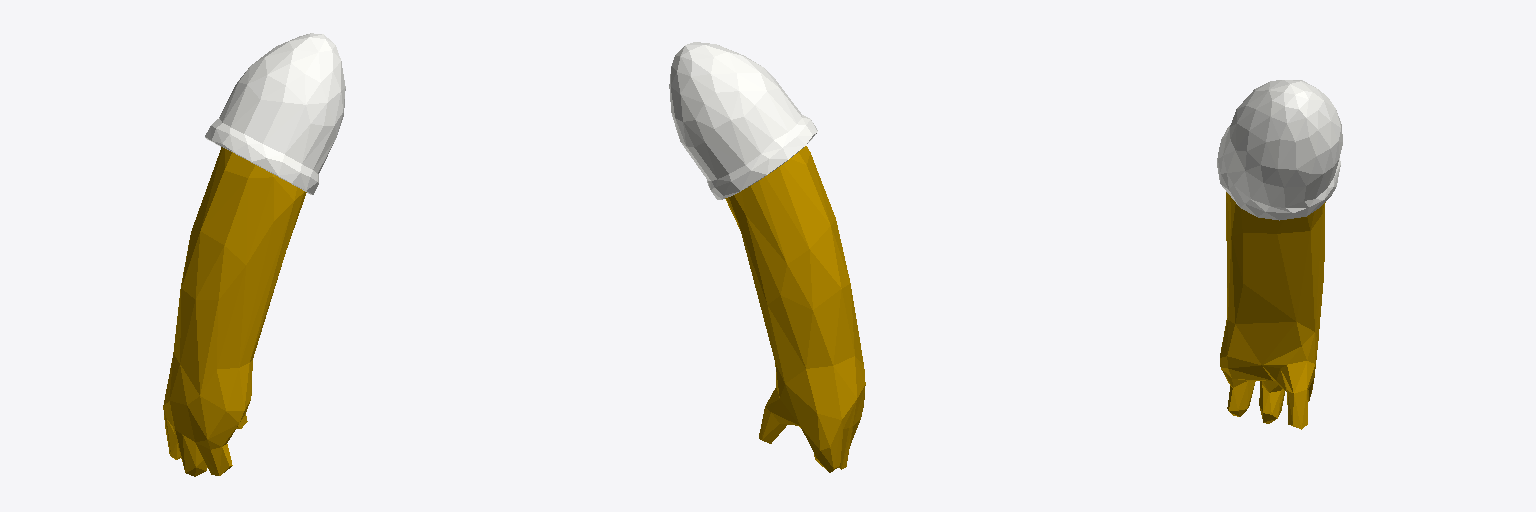
File: brazoIzq.obj
The picture shows the model from 3 angles: view 1: azimuth 30°, elevation 25°; view 2: azimuth 150°, elevation 25°; view 3: azimuth 270°, elevation 25°; orthographic projection.
Parts seen in each view (by area): view 1: Brazo_Izq_Homer_Sphere.007; view 2: Brazo_Izq_Homer_Sphere.007; view 3: Brazo_Izq_Homer_Sphere.007.
Part boxes in pixels (x1,y1,x2,y2): Brazo_Izq_Homer_Sphere.007: (163,33,345,476); Brazo_Izq_Homer_Sphere.007: (669,42,865,472); Brazo_Izq_Homer_Sphere.007: (1217,80,1342,429).
Size of the model in its own units: 0.7335 by 1.6 by 0.4577.